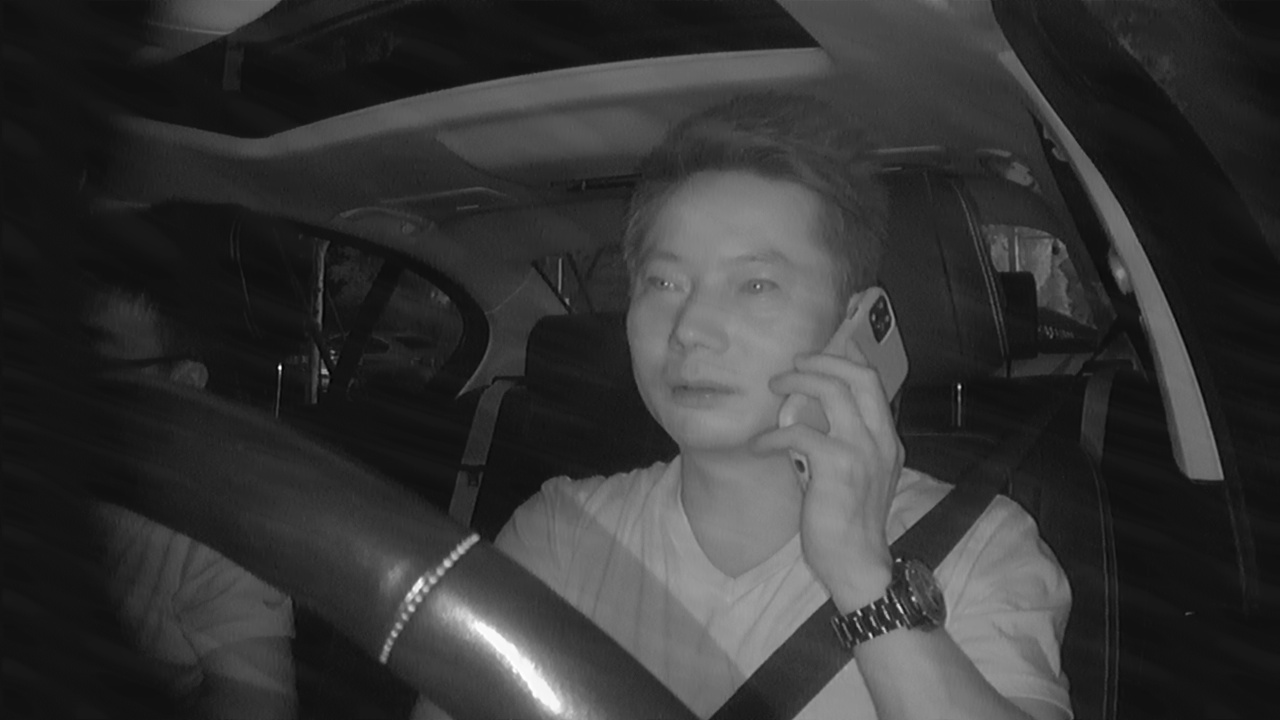hand: (766, 355, 910, 570)
